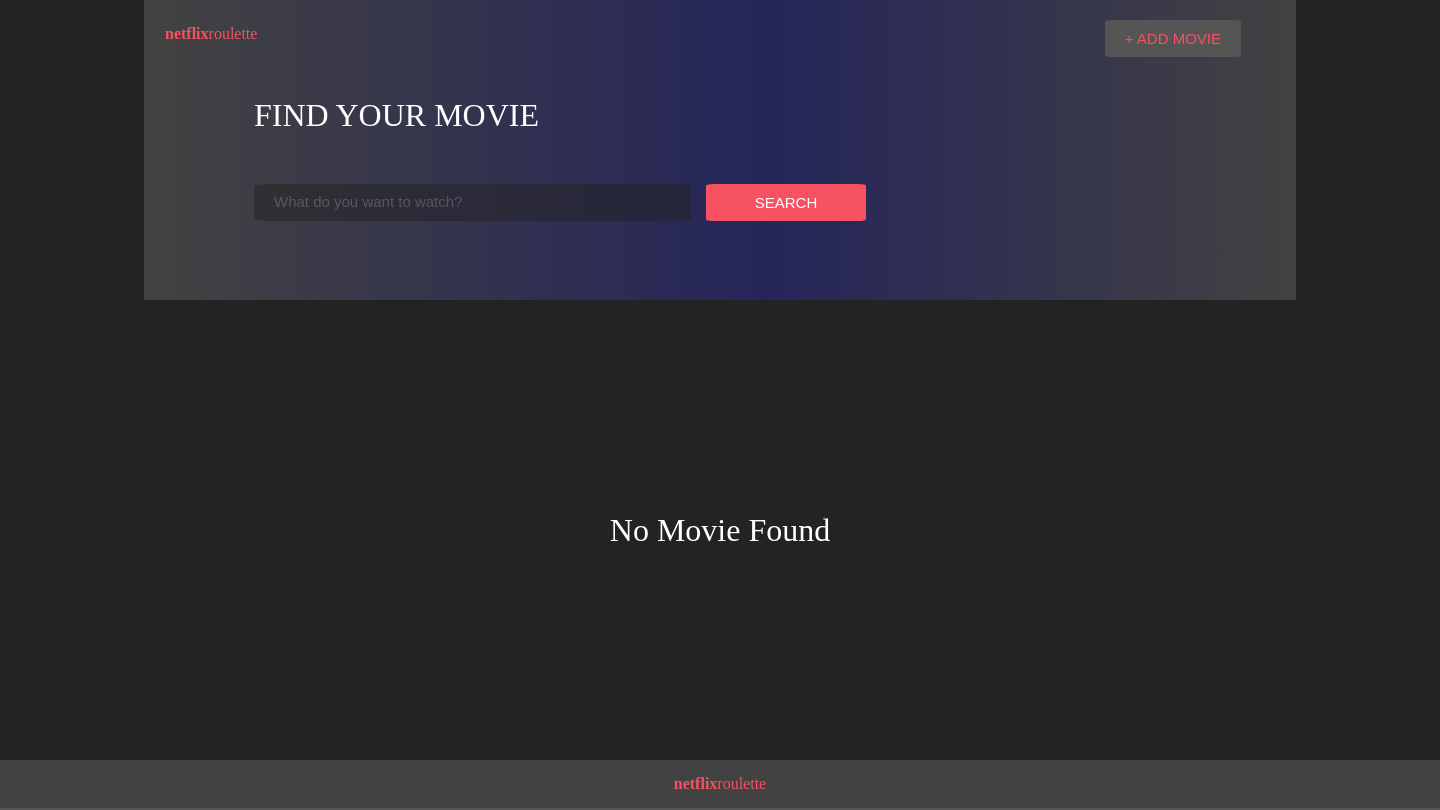
Scenario: AddEditMovieModalForm › modal opens when button clicked
Click the button "+ add movie" at (1173, 38), box [1105, 20, 1241, 57]
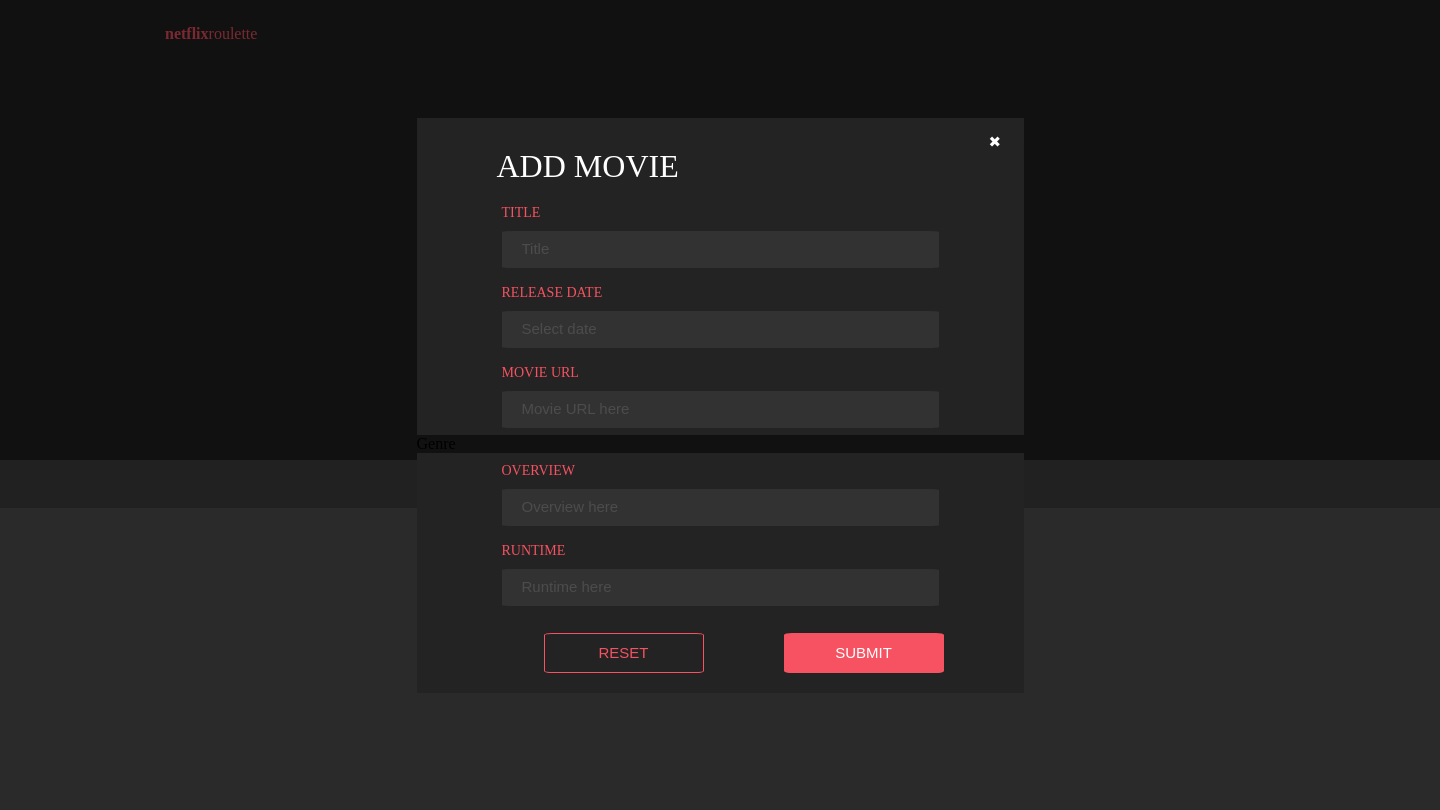
expect the heading "Add Movie" is shown: met, box [496, 148, 679, 184]
